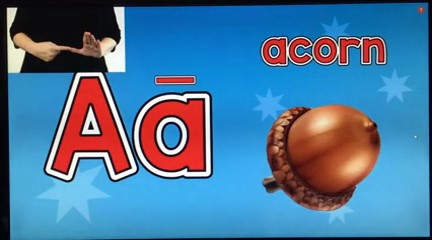A: (33, 30, 104, 62)
